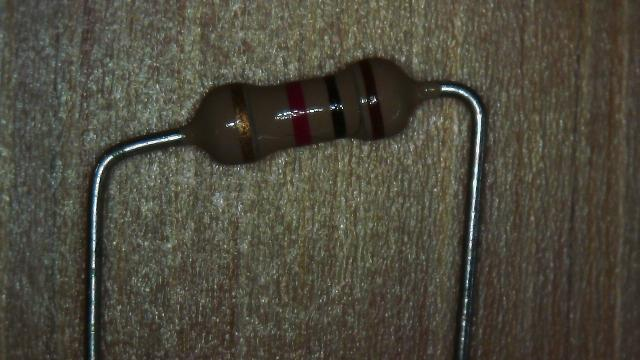black: (324, 74, 346, 138)
brown: (359, 60, 384, 139)
gold: (231, 84, 254, 162)
red: (286, 80, 309, 146)
resistor: (153, 36, 450, 174)
